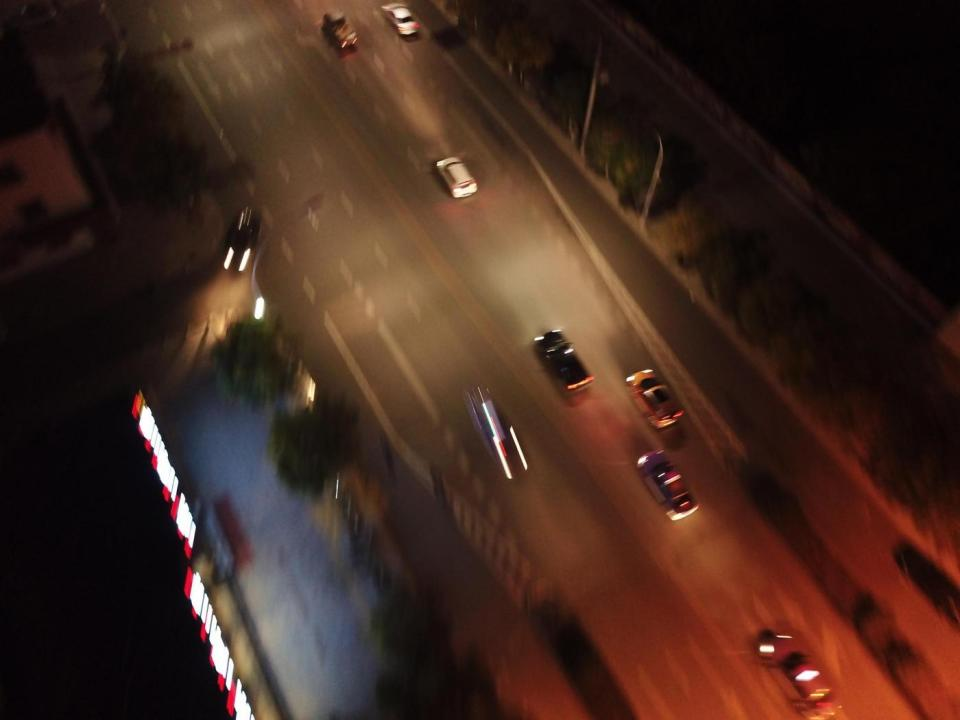car: (758, 626, 842, 716), (893, 542, 960, 628), (466, 385, 527, 478), (638, 450, 699, 521), (534, 331, 594, 397), (628, 370, 682, 426), (220, 206, 260, 271), (436, 156, 478, 198), (382, 4, 418, 36)
van: (322, 10, 357, 47)
